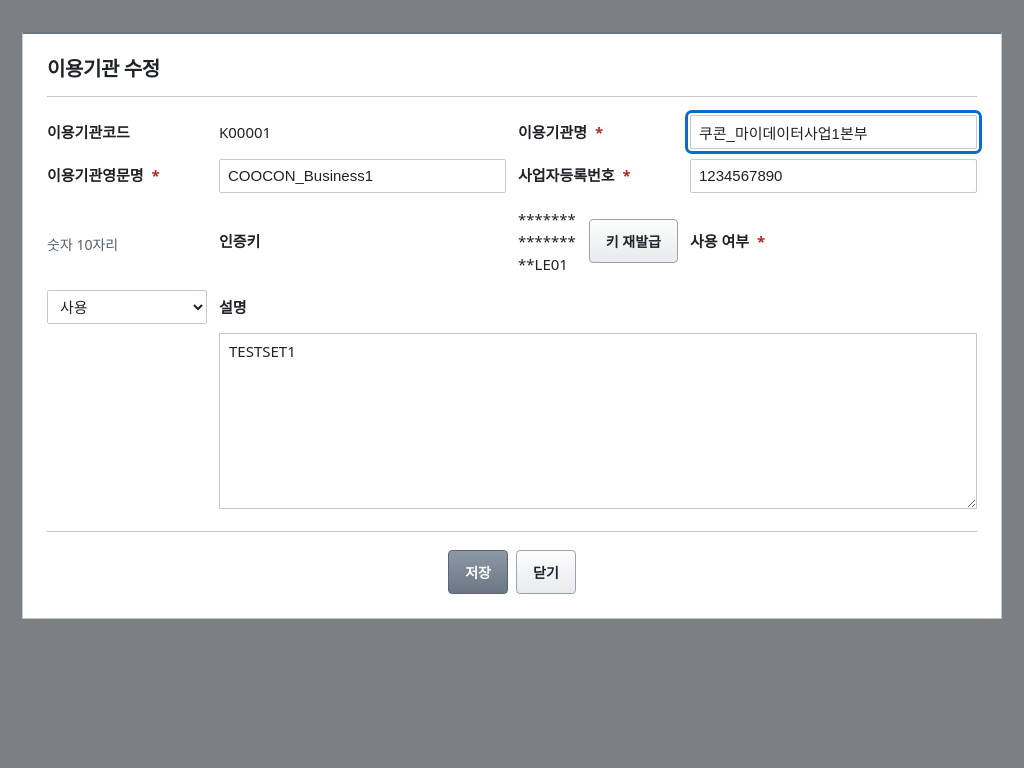
InstitutionEditDialog › 인증키 재발급 / key rotation › 취소하면 아무 일도 일어나지 않는다 / cancelling changes nothing
The width and height of the screenshot is (1024, 768).
Expected: the field labelled "이용기관명 *" is shown, 690,115 -> 977,149
What coordinates should you click on to do the following:
click the button "키 재발급"
I would click on:
 (633, 241)
Its box is 589,219 -> 678,263.
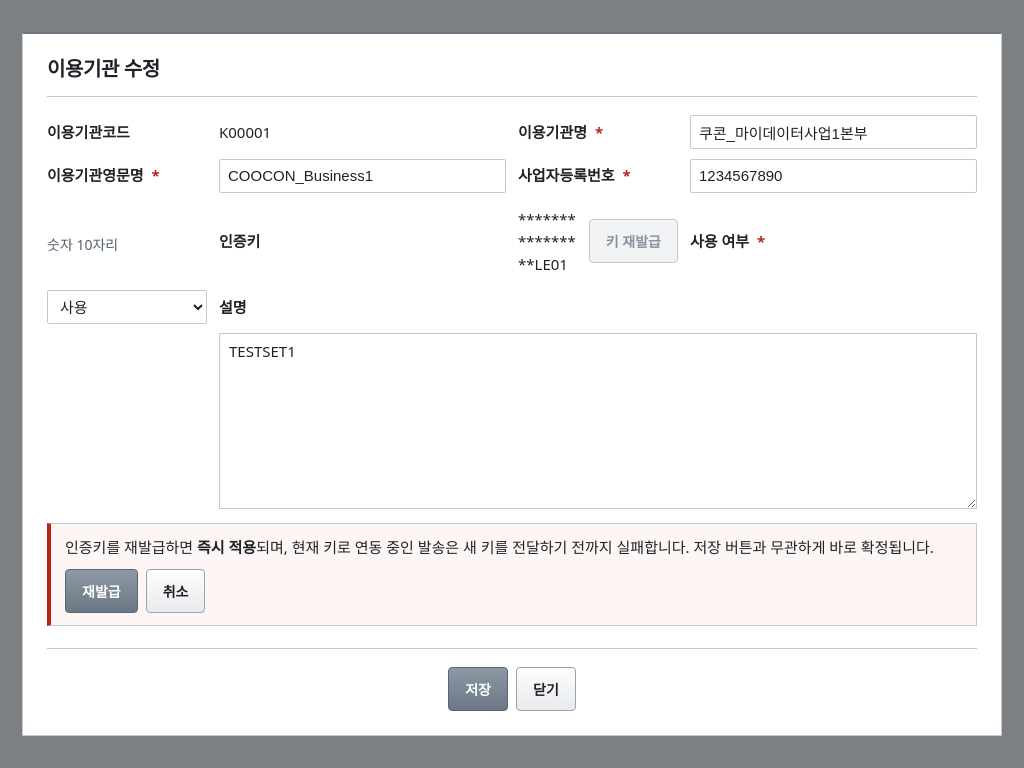
What coordinates should you click on to do the following:
click the button "취소"
I would click on:
 (176, 590)
Its box is 146,568 -> 205,612.
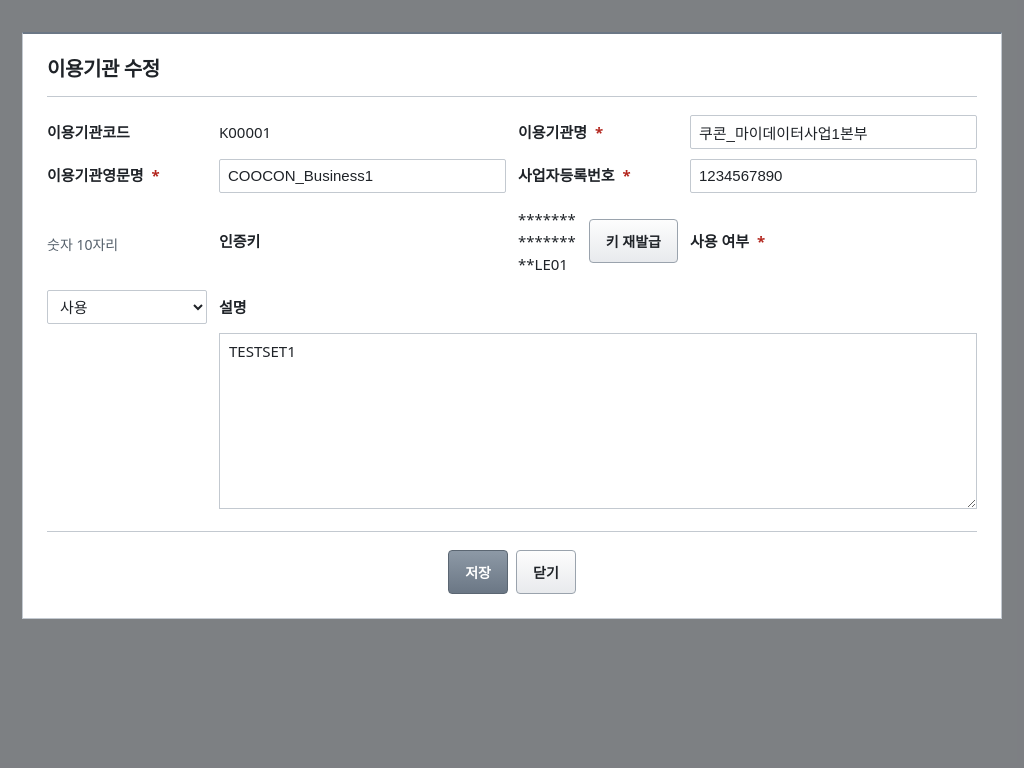
Result: the text "즉시 적용" is gone
